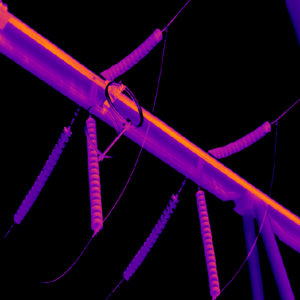insulator: (12, 123, 73, 224), (121, 190, 178, 280), (99, 26, 163, 80), (195, 186, 220, 296), (209, 118, 272, 160), (83, 115, 103, 231)
